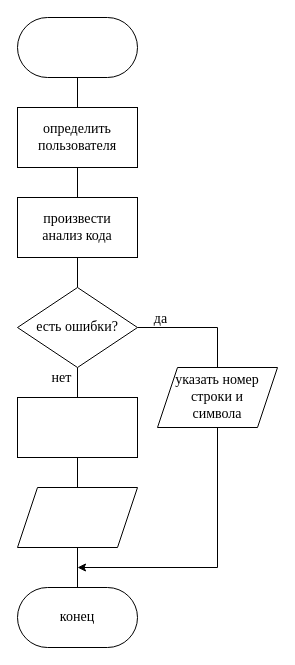
The diagram is 295 pixels wide and 665 high, and some of its shapes have lost their labels. Here are the shapes that lost their labels. From the top down, the centre of each, then its label:
At pixel 77 47: "начало генерация схемы (исходный код)".
At pixel 77 427: "сохранить код и схему".
At pixel 77 517: "отобразить схему".
